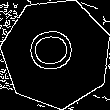O_E: (29, 29, 84, 78)
